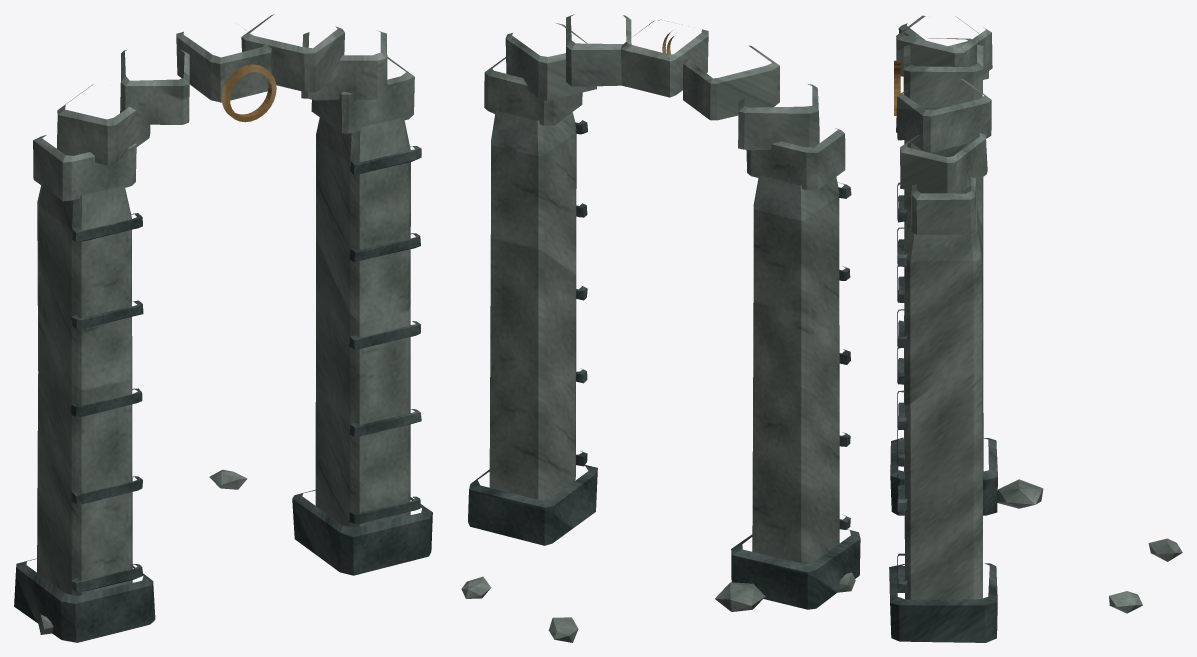
The model's file is 0308_archway_08.glb.
3 renders of one model, left to right at view 1: azimuth 30°, elevation 25°; view 2: azimuth 150°, elevation 25°; view 3: azimuth 270°, elevation 25°, orthographic. The views are drawn at different scales.
Visible parts, largest first — view 1: stone, stone_dark, brass; view 2: stone, stone_dark; view 3: stone, stone_dark.
Part boxes in pixels (left/top/right/bottom): stone: left=33, top=14, right=414, bottom=634; stone_dark: left=14, top=146, right=432, bottom=642; brass: left=221, top=64, right=276, bottom=122; stone: left=461, top=14, right=855, bottom=642; stone_dark: left=468, top=120, right=860, bottom=609; stone: left=896, top=15, right=1182, bottom=613; stone_dark: left=889, top=133, right=997, bottom=642.
Size of the model in its own units: 3.23 by 4.49 by 2.34.
Materials: 3 (3 with a texture image).
